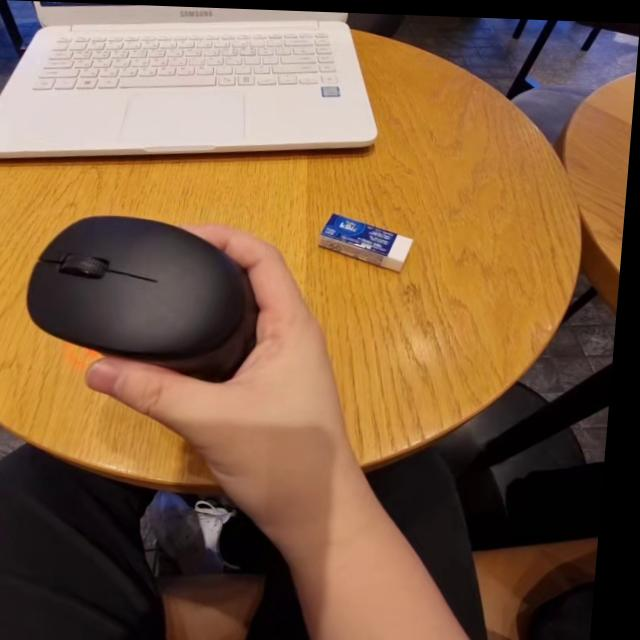eraser: (309, 183, 434, 276)
grab_mouse: (16, 196, 345, 501)
